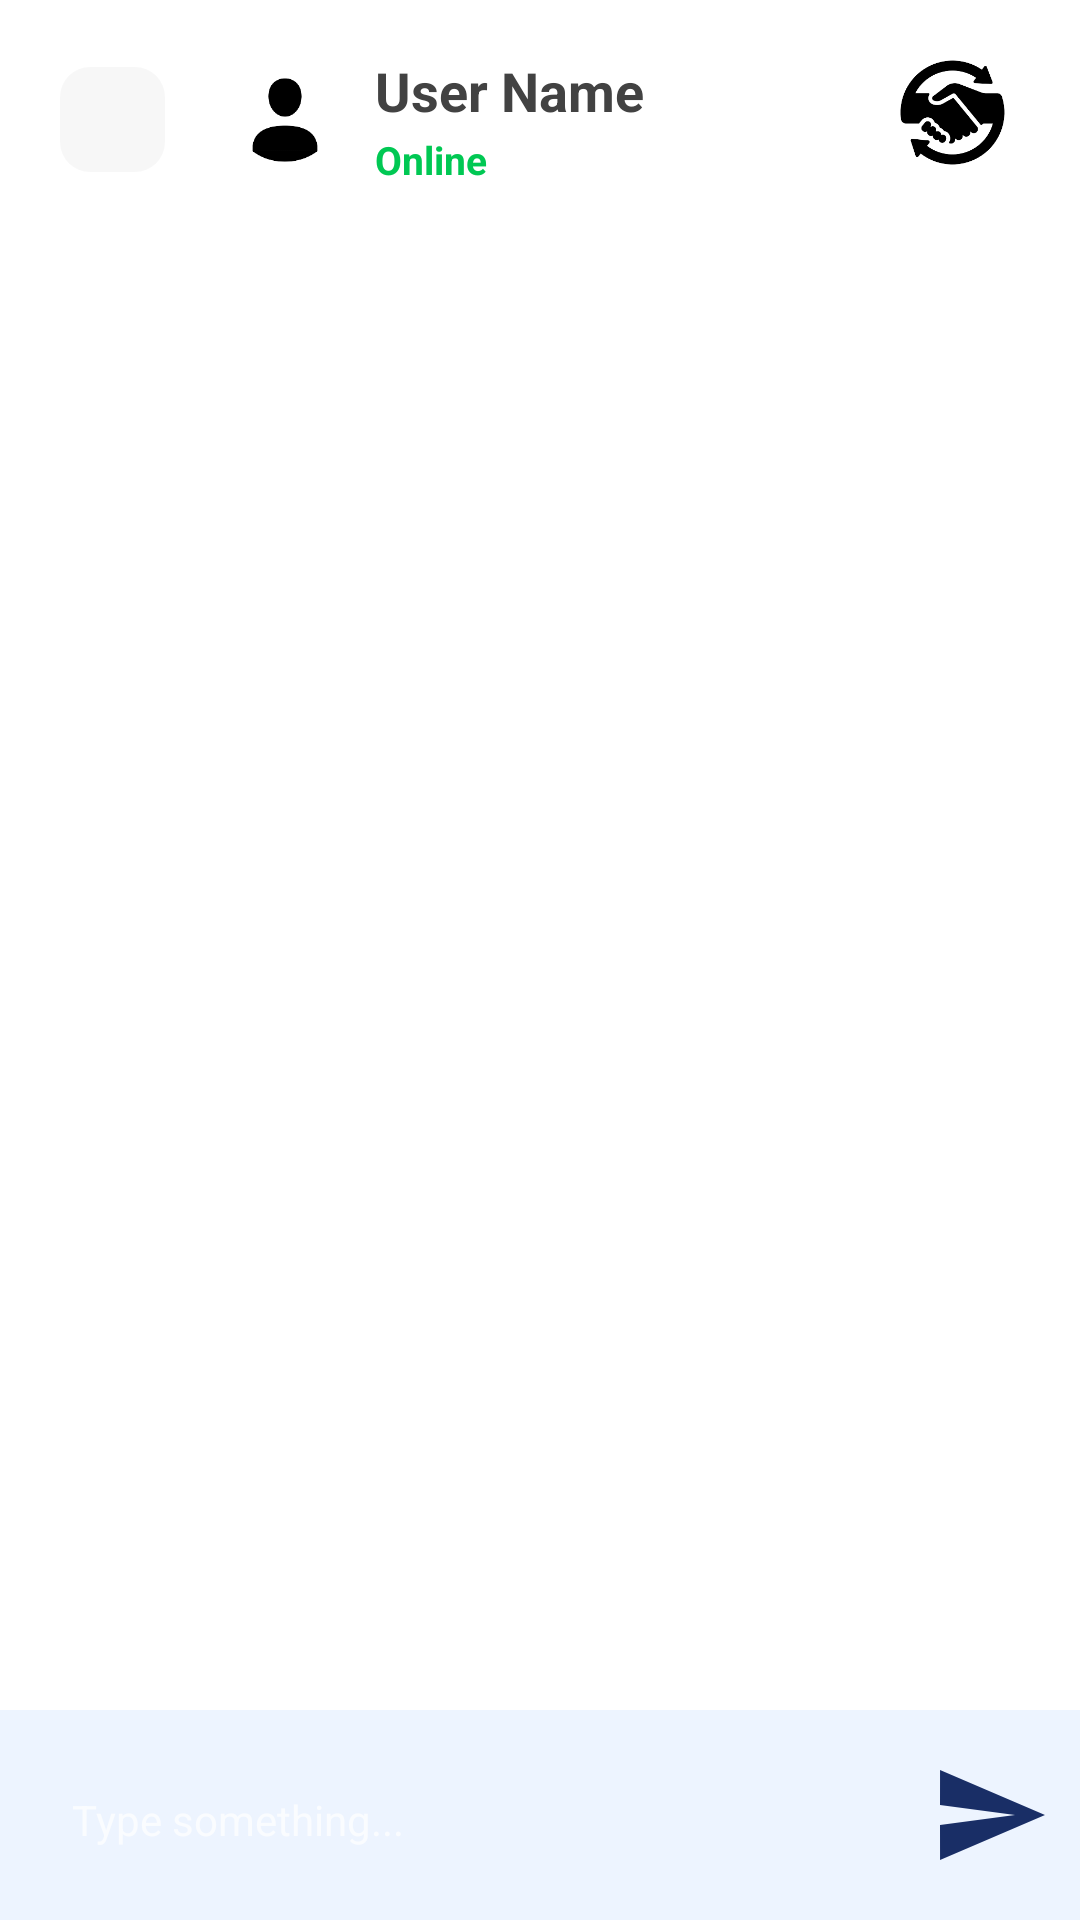

Screen size 1080px x 1920px. Icon name, then its box in pixels as (x1, y1, x2, y2):
profile pic: (252, 78, 318, 162)
send: (940, 1770, 1045, 1860)
trade: (900, 60, 1005, 165)
